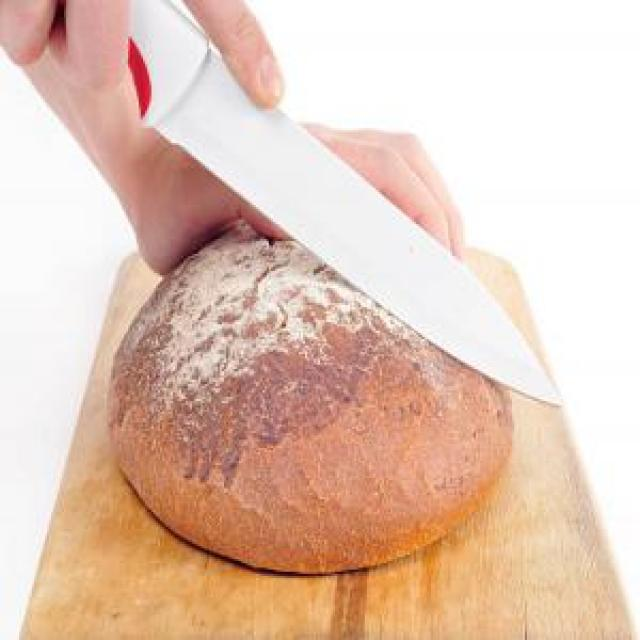knife: (109, 0, 563, 412)
